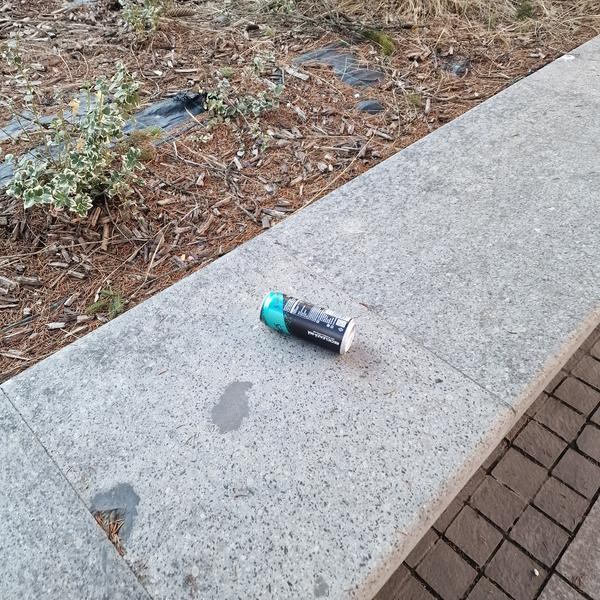can: (254, 285, 361, 357)
